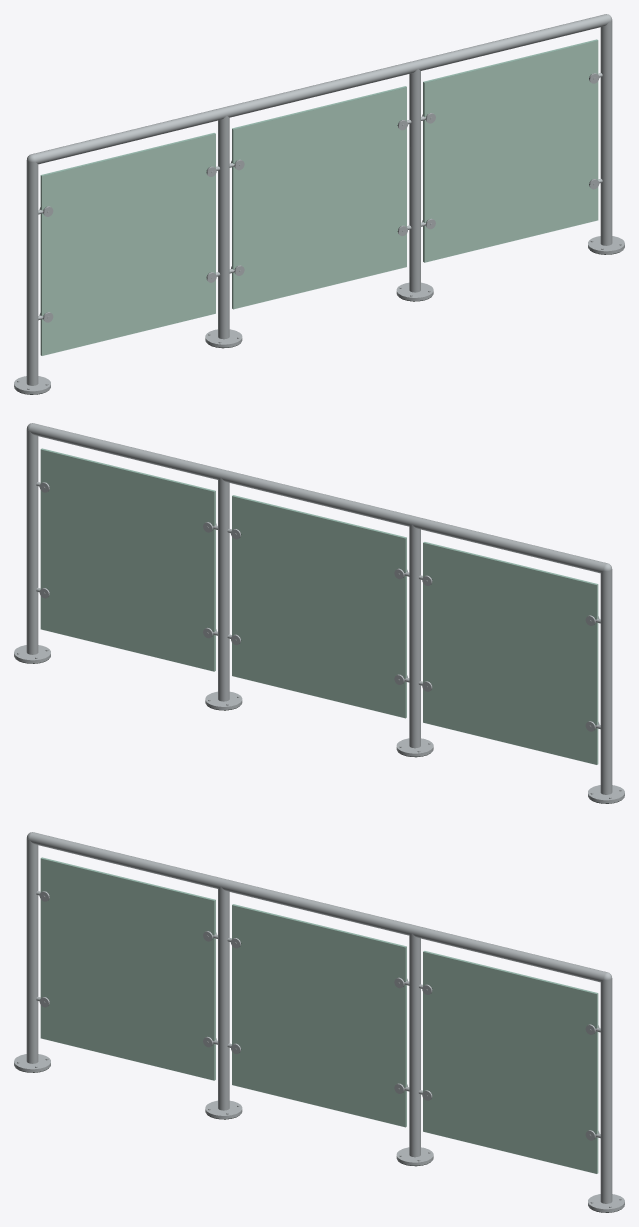
File: glass-straight.glb
3 renders of one model, top to bottom at view 1: azimuth 30°, elevation 25°; view 2: azimuth 150°, elevation 25°; view 3: azimuth 330°, elevation 25°, orthographic.
Parts seen in each view (by area): view 1: glass_panel (×3), upright (×4), handrail; view 2: glass_panel (×3), upright (×4), handrail; view 3: glass_panel (×3), upright (×4), handrail.
Boxes of the visible parts, x1,y1,x2,y2 form: glass_panel (×3): [40, 39, 598, 355]; upright (×4): [26, 20, 612, 385]; handrail: [32, 14, 609, 164]; glass_panel (×3): [40, 448, 598, 764]; upright (×4): [26, 429, 612, 794]; handrail: [29, 423, 606, 573]; glass_panel (×3): [40, 857, 598, 1173]; upright (×4): [26, 838, 612, 1203]; handrail: [29, 832, 606, 982].
Bounding box in the file's own units: 3 × 1.1 × 0.16.
